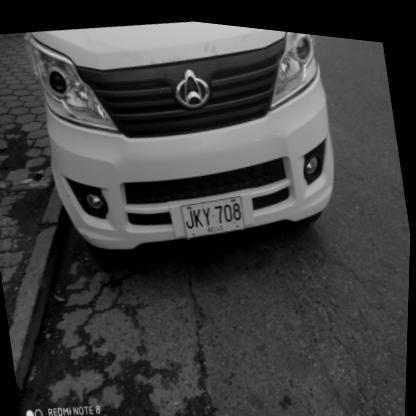placa: (176, 182, 252, 242)
